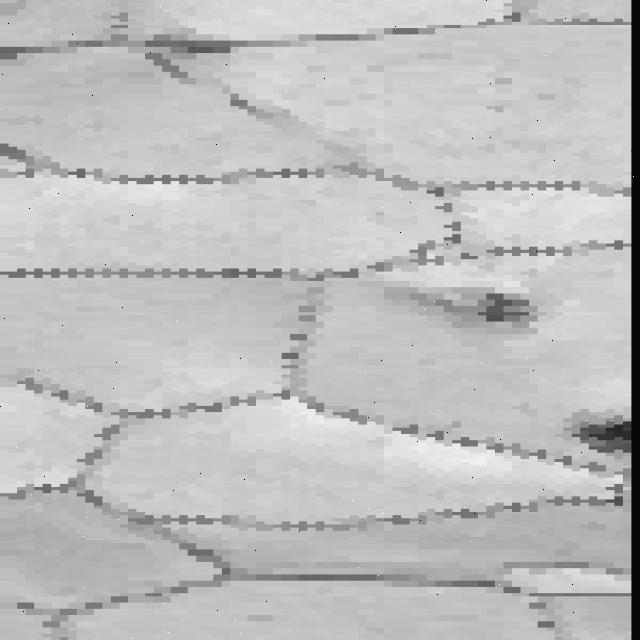good_void: (372, 284, 540, 337), (571, 416, 631, 457), (151, 39, 243, 60)
